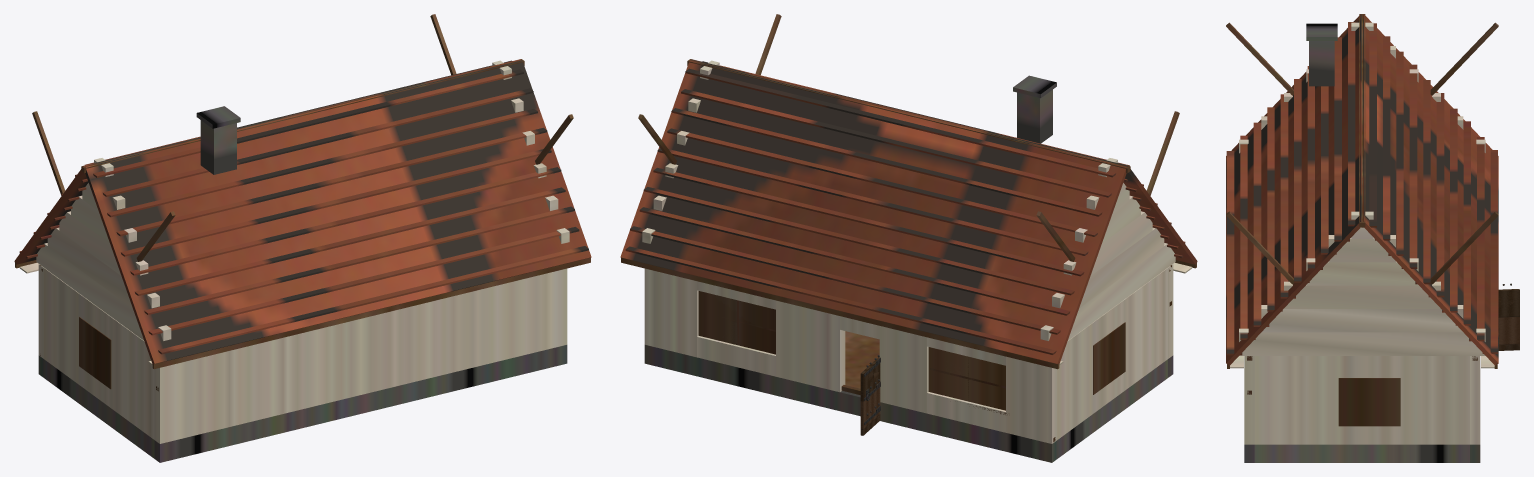
Rendered from Building1Whole_DoorOpen.glb.
3 views of the same model, side by side, from view 1: azimuth 30°, elevation 25°; view 2: azimuth 150°, elevation 25°; view 3: azimuth 270°, elevation 25° (orthographic). The views are drawn at different scales.
Visible parts, largest first — view 1: Building1_Roof, Building1_Walls; view 2: Building1_Roof, Building1_Walls, Building1_Door; view 3: Building1_Roof, Building1_Walls, Building1_Door.
Boxes of the visible parts, x1,y1,x2,y2 form: Building1_Roof: (14, 14, 591, 369); Building1_Walls: (38, 264, 567, 462); Building1_Roof: (620, 14, 1197, 369); Building1_Walls: (644, 264, 1173, 462); Building1_Door: (860, 355, 880, 435); Building1_Roof: (1226, 14, 1498, 368); Building1_Walls: (1244, 356, 1480, 462); Building1_Door: (1498, 283, 1519, 350).
Bounding box in the file's own units: 13.4 × 8.56 × 7.96.
7 materials, 7 textured.
